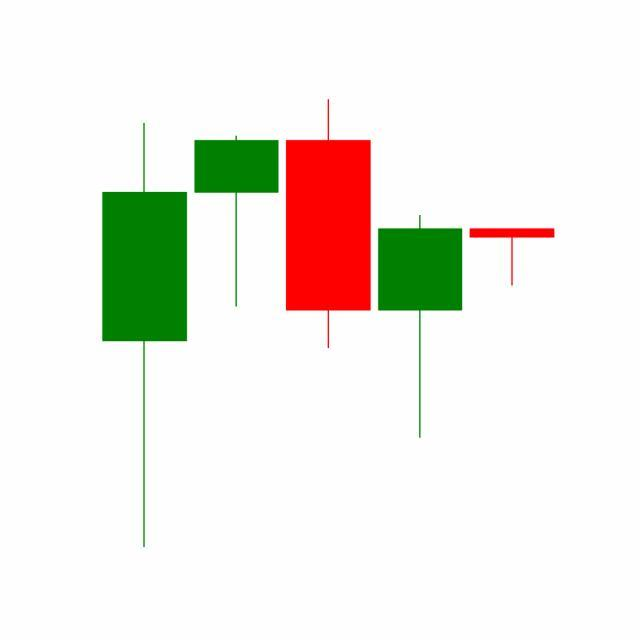Hanging Man: (466, 229, 559, 288)
